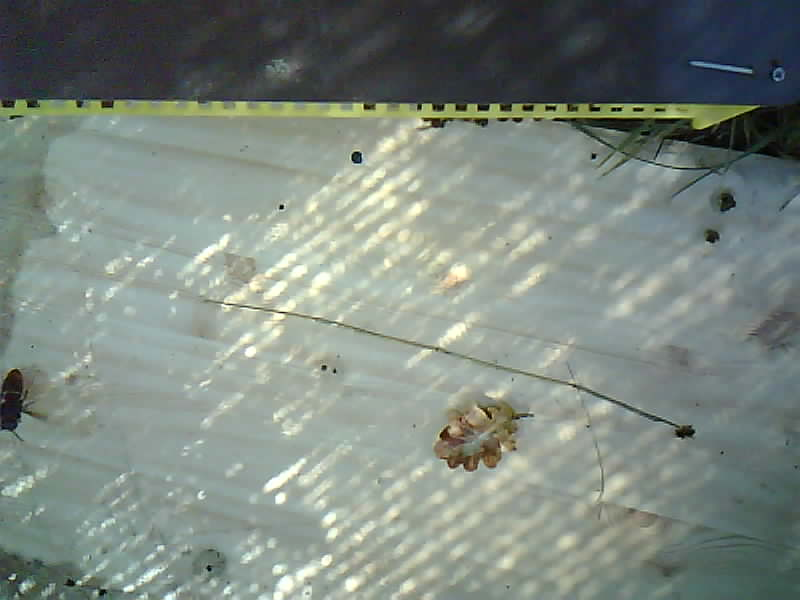hornet: (1, 366, 35, 445)
